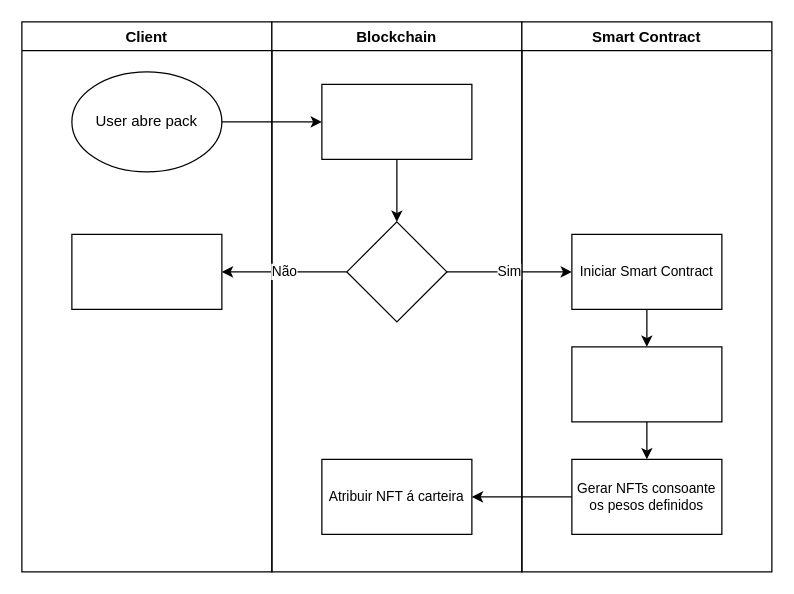
The diagram is 794 pixels wide and 594 high, and some of its shapes have lost their labels. Each missing label, with the box of its shape:
Destruir token de pack: (571, 346, 722, 422)
Informar o motivo da falha: (71, 233, 222, 309)
User possui as condições necessárias para a transação?: (321, 83, 472, 159)
